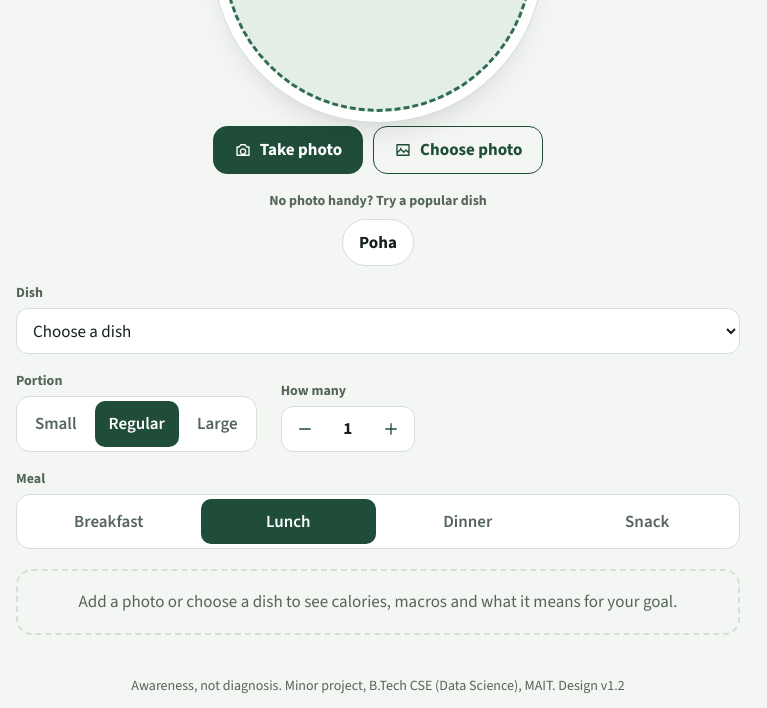
Nutrition Analyzer UI › shows nutrition after picking a dish, then logs it under Today
(page scrolled)
Select "Poha" in the dropdown at [378, 331], box [16,308,740,354]
(page scrolled)
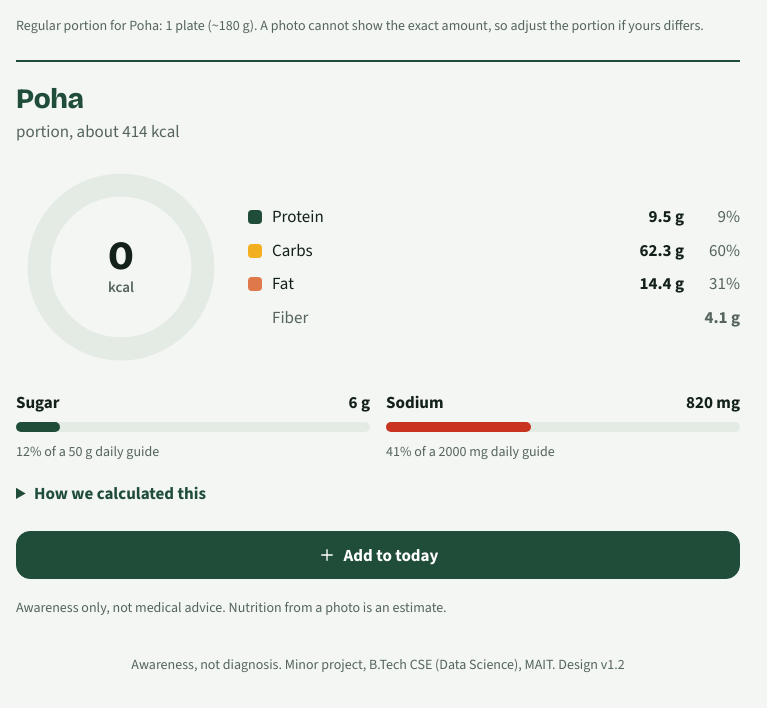
Expected: the button "Add to today" is shown
Expected: the heading "How we calculated this" is shown, [34,482,206,505]
Click the button "Add to today".
click(378, 555)  # box [16,531,740,579]
(page scrolled)
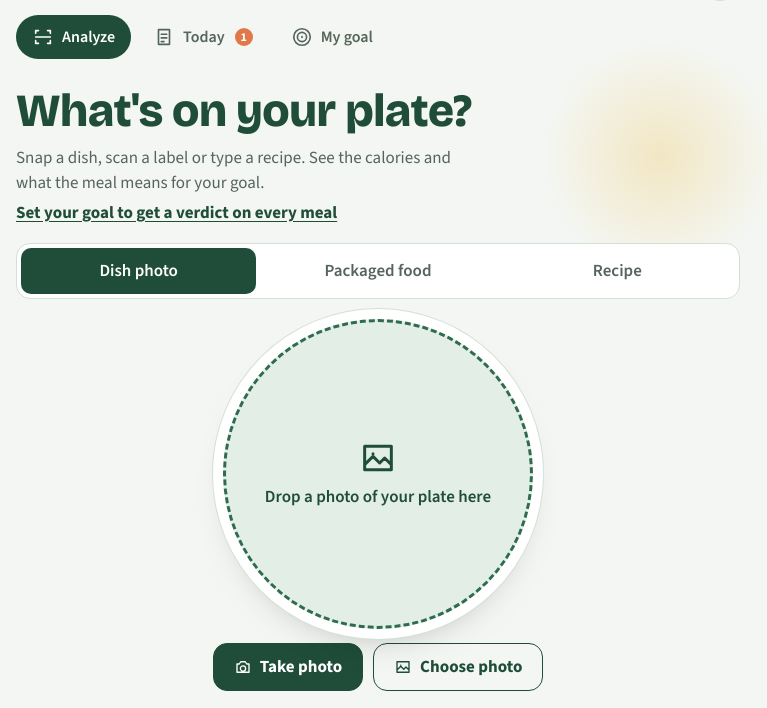
Click the button "Today 1".
click(203, 37)  # box [137,15,269,59]
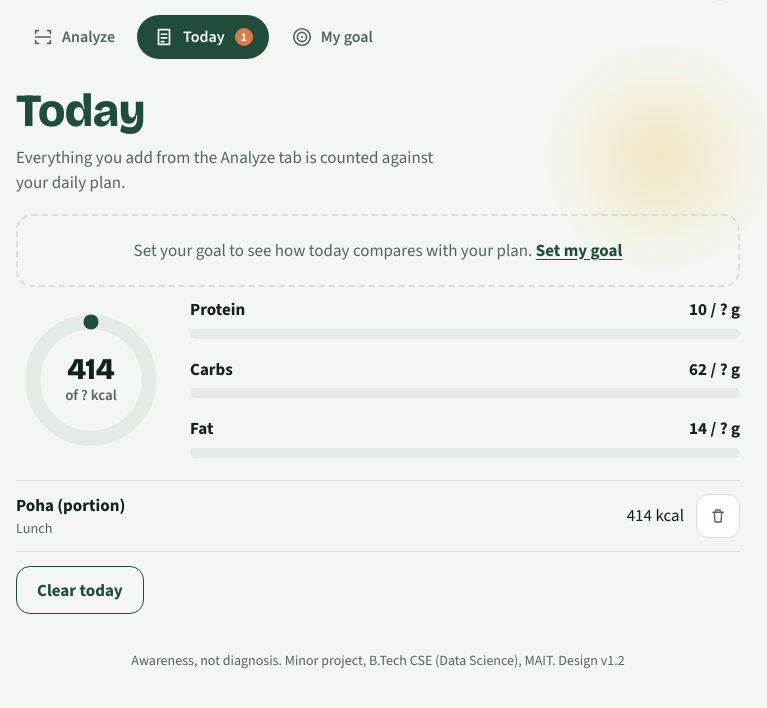
Expected: the text "414 kcal" is shown, [627,503,684,529]
Expected: the text "Poha (portion)" is shown, [16,494,125,516]
